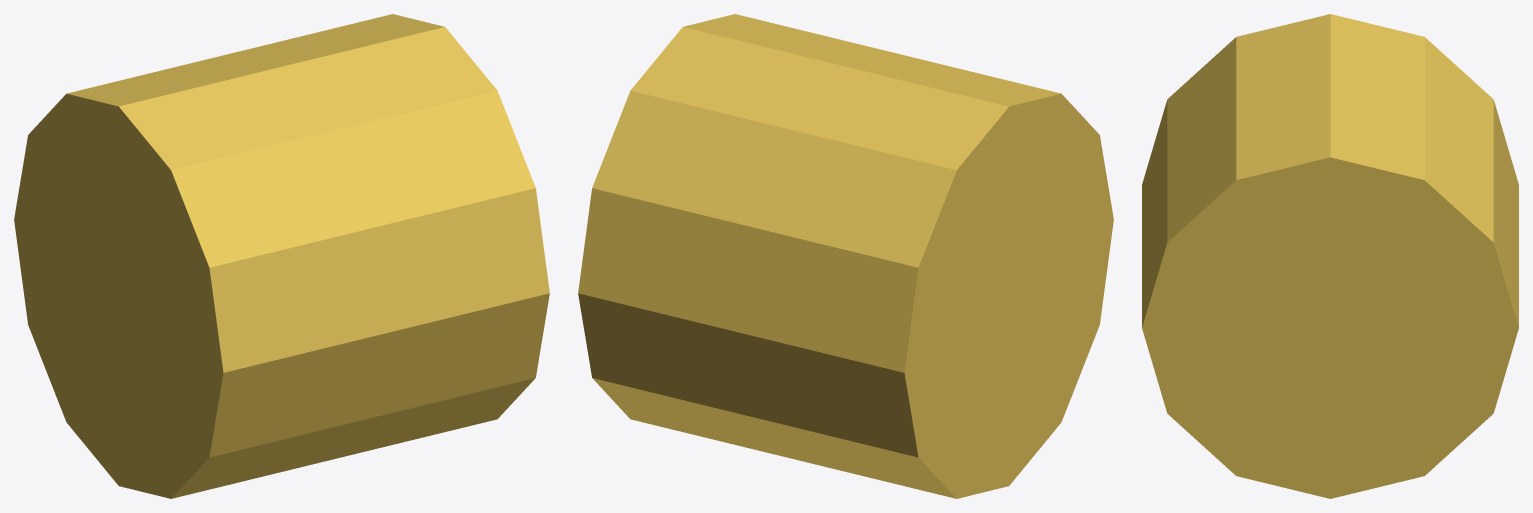
File: Horse_Hay.fbx
3 views of the same model, side by side, from view 1: azimuth 30°, elevation 25°; view 2: azimuth 150°, elevation 25°; view 3: azimuth 270°, elevation 25° (orthographic). The views are drawn at different scales.
Visible parts, largest first — view 1: Hay; view 2: Hay; view 3: Hay.
Part boxes in pixels (x1,y1,x2,y2): Hay: [14, 14, 549, 498]; Hay: [578, 14, 1113, 498]; Hay: [1142, 14, 1518, 498].
Bounding box in the file's own units: 0.9 × 1 × 1.
